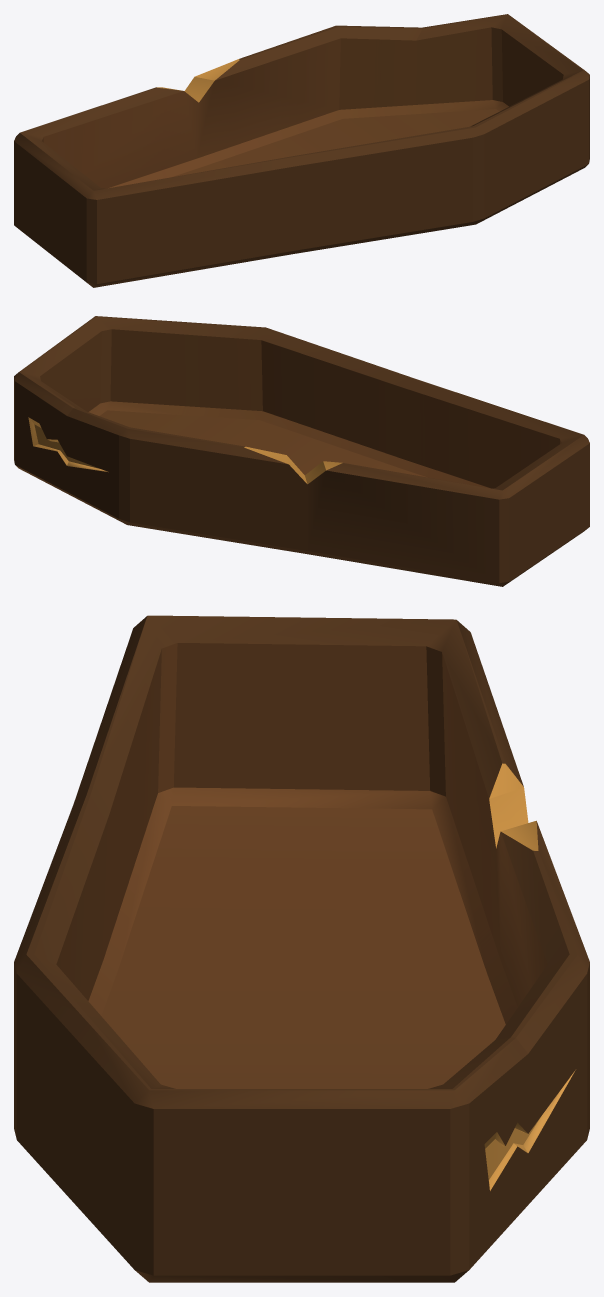
File: Cofin_1_2.glb
3 renders of one model, top to bottom at view 1: azimuth 30°, elevation 25°; view 2: azimuth 150°, elevation 25°; view 3: azimuth 270°, elevation 25°, orthographic. The views are drawn at different scales.
Visible parts, largest first — view 1: Cofin_1_2; view 2: Cofin_1_2; view 3: Cofin_1_2.
Part boxes in pixels (x1=…): Cofin_1_2: x1=14, y1=14, x2=589, y2=287; Cofin_1_2: x1=14, y1=316, x2=589, y2=586; Cofin_1_2: x1=14, y1=615, x2=589, y2=1282.
Size of the model in its own units: 1.32 by 0.2435 by 0.6612.
1 material, 1 textured.
